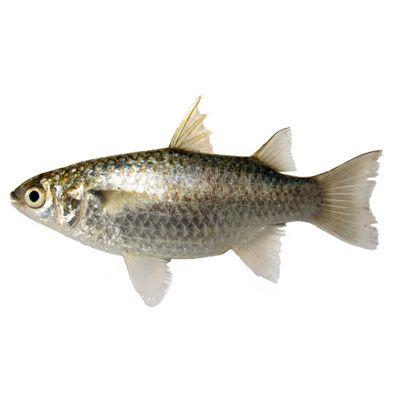Mullet: (11, 94, 379, 306)
